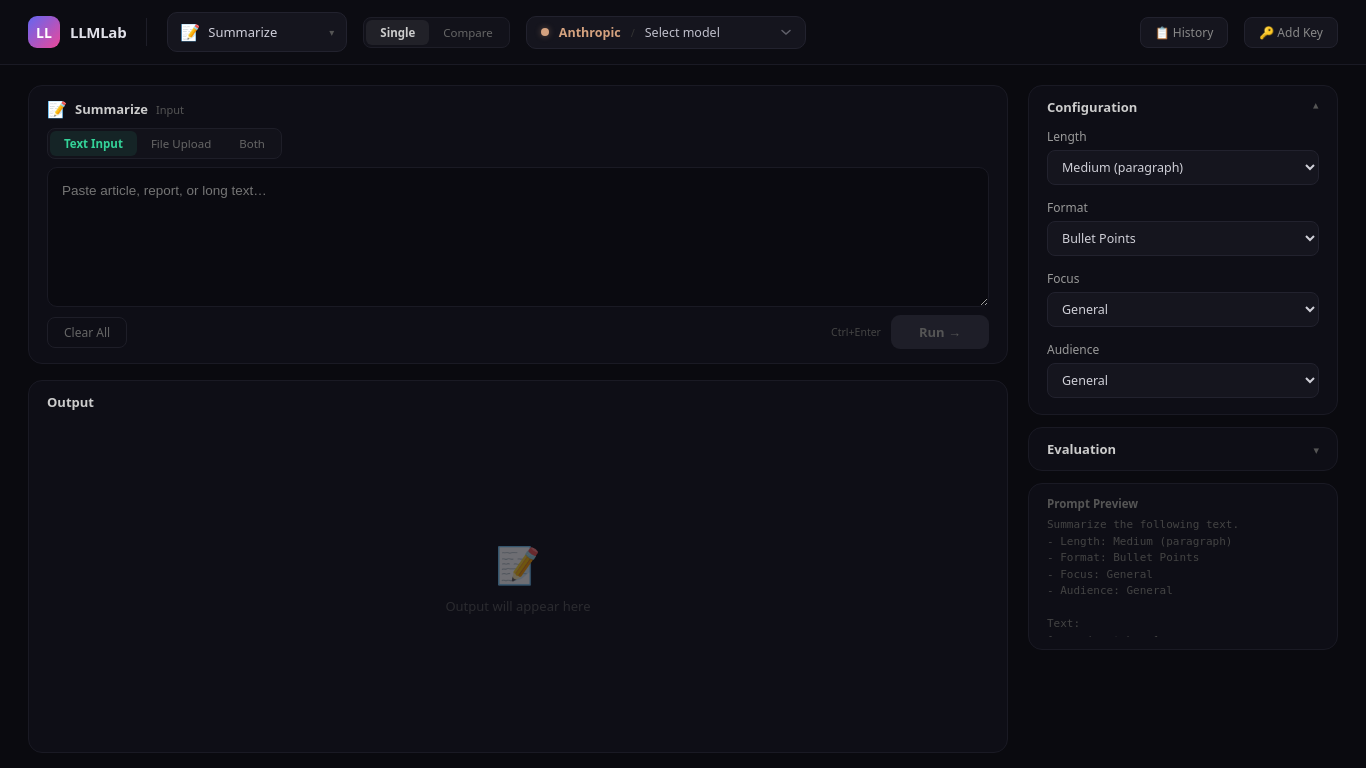
App › Clear All resets input
Type "Some text" into the text box with placeholder "Paste article, report, or long text…" at (518, 237), box [47, 167, 989, 307]
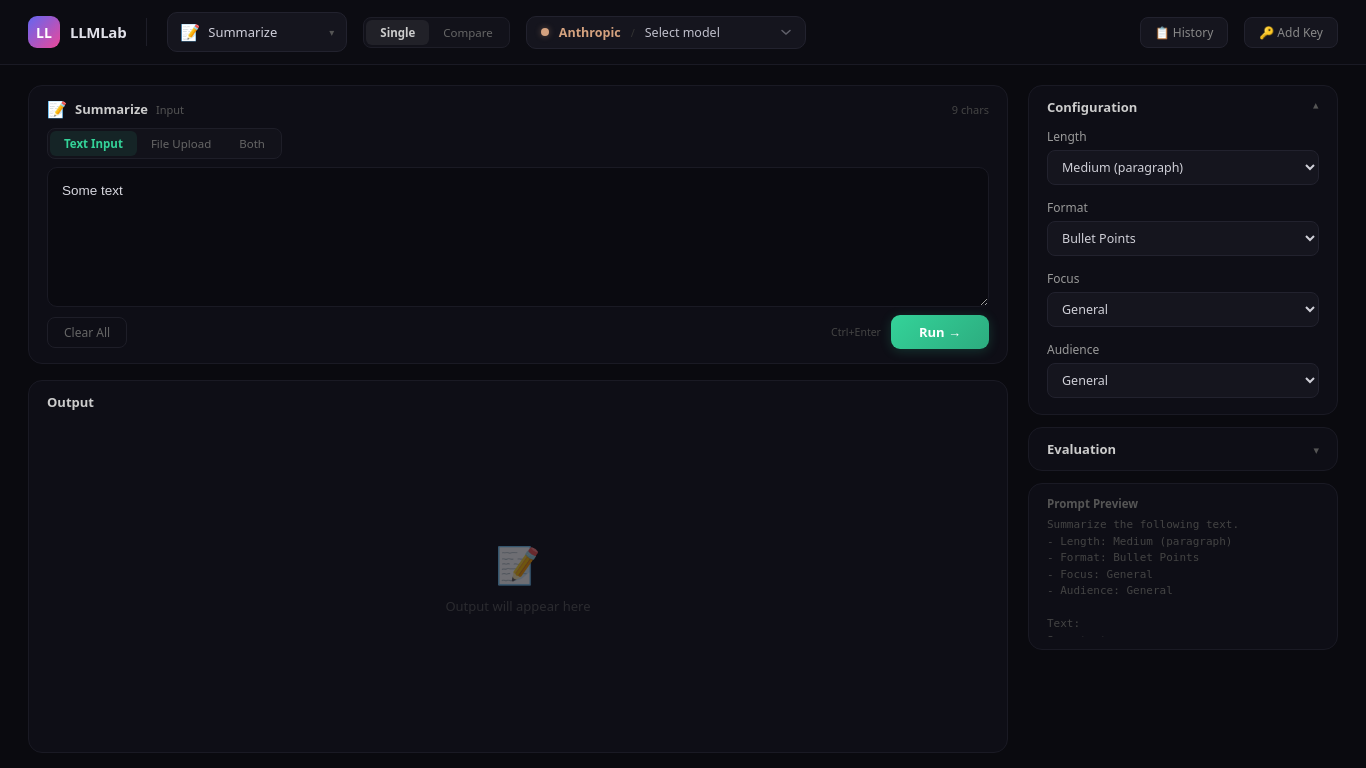
Click the button "Clear All" at (87, 332), box [47, 316, 127, 348]
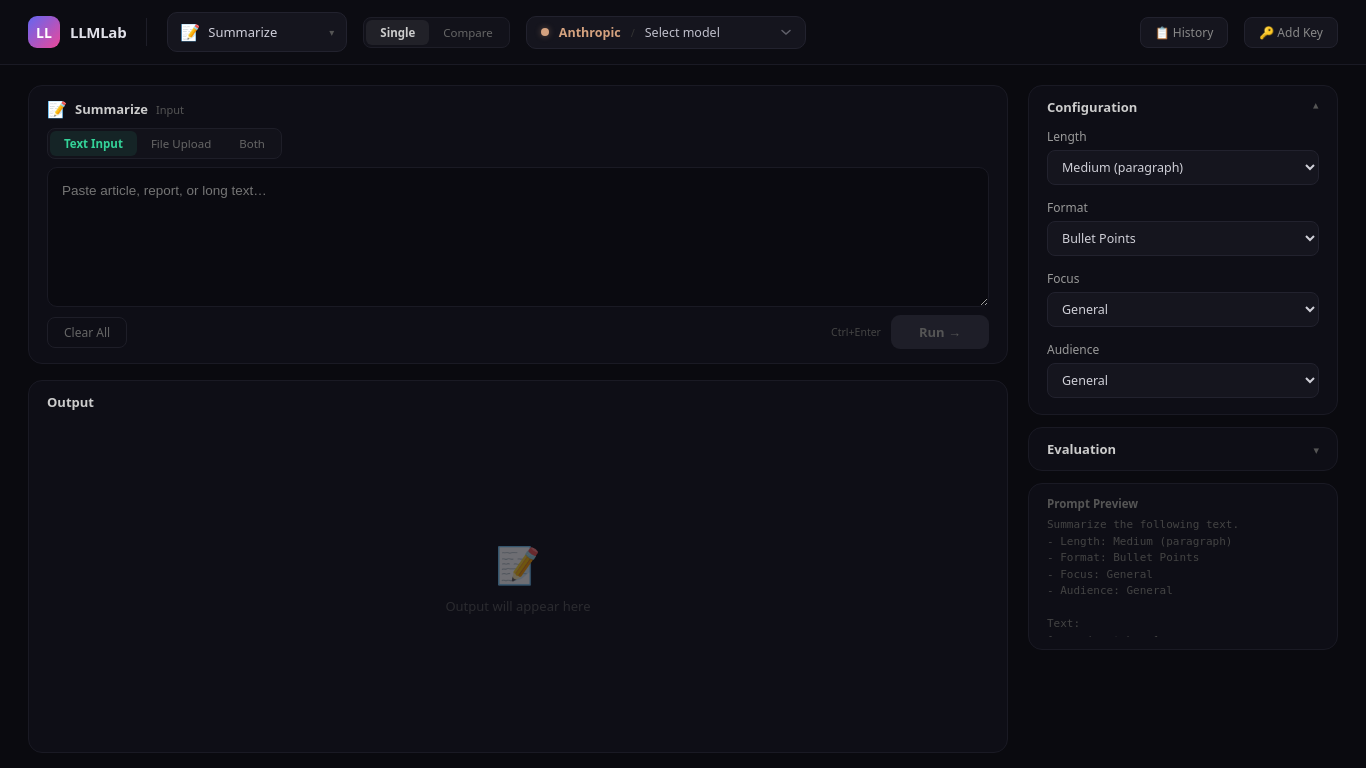
Now the text box with placeholder "Paste article, report, or long text…" is empty, box [47, 167, 989, 307]
